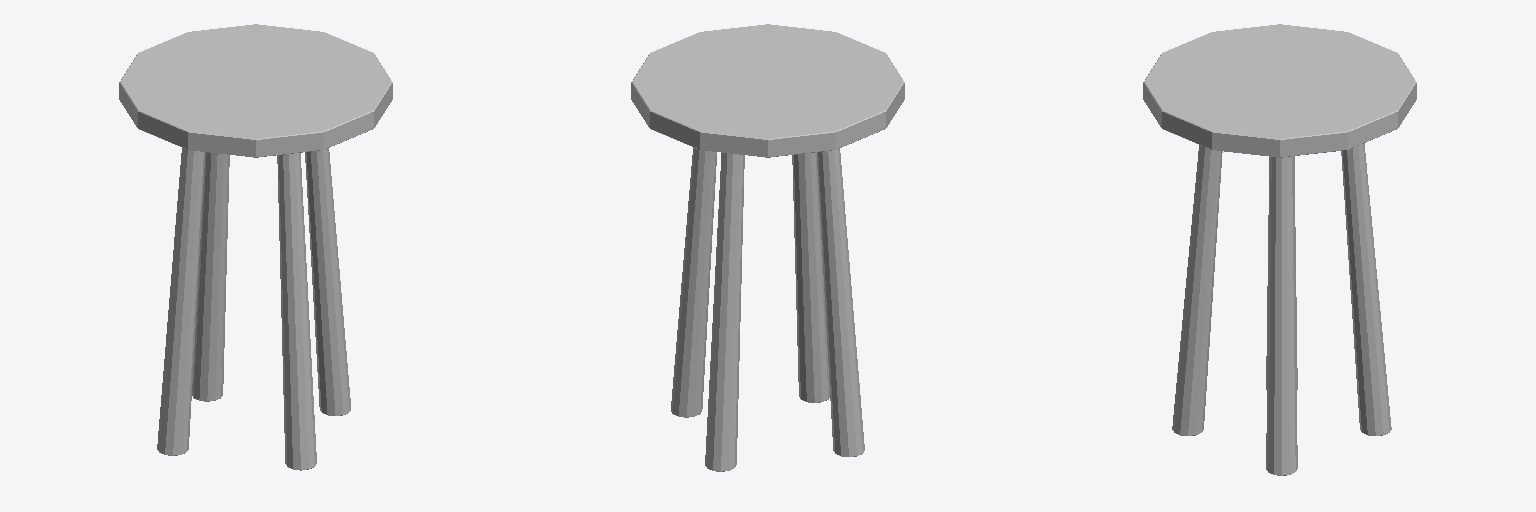
File: libraryLittleTable.obj
3 renders of one model, left to right at view 1: azimuth 30°, elevation 25°; view 2: azimuth 150°, elevation 25°; view 3: azimuth 270°, elevation 25°, orthographic.
Visible parts, largest first — view 1: coisa; view 2: coisa; view 3: coisa.
Boxes of the visible parts, x1,y1,x2,y2 form: coisa: [119, 24, 392, 470]; coisa: [631, 24, 904, 471]; coisa: [1143, 24, 1416, 475].
Bounding box in the file's own units: 4.42 × 6.22 × 4.42.